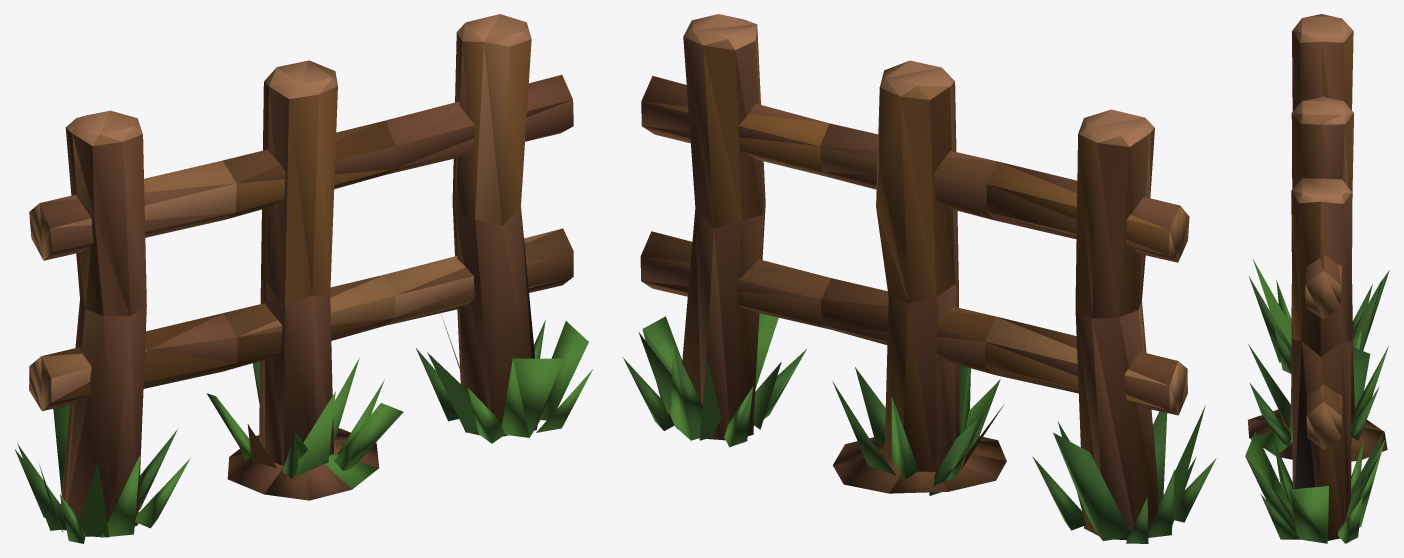
Rendered from prop.fence.glb.
3 renders of one model, left to right at view 1: azimuth 30°, elevation 25°; view 2: azimuth 150°, elevation 25°; view 3: azimuth 270°, elevation 25°, orthographic. The views are drawn at different scales.
Parts seen in each view (by area): view 1: asset; view 2: asset; view 3: asset.
Part boxes in pixels (x1,y1,x2,y2): asset: (14,14,592,543); asset: (622,14,1216,543); asset: (1245,14,1389,543).
Bounding box in the file's own units: 0.9882 × 0.7 × 0.2709.
